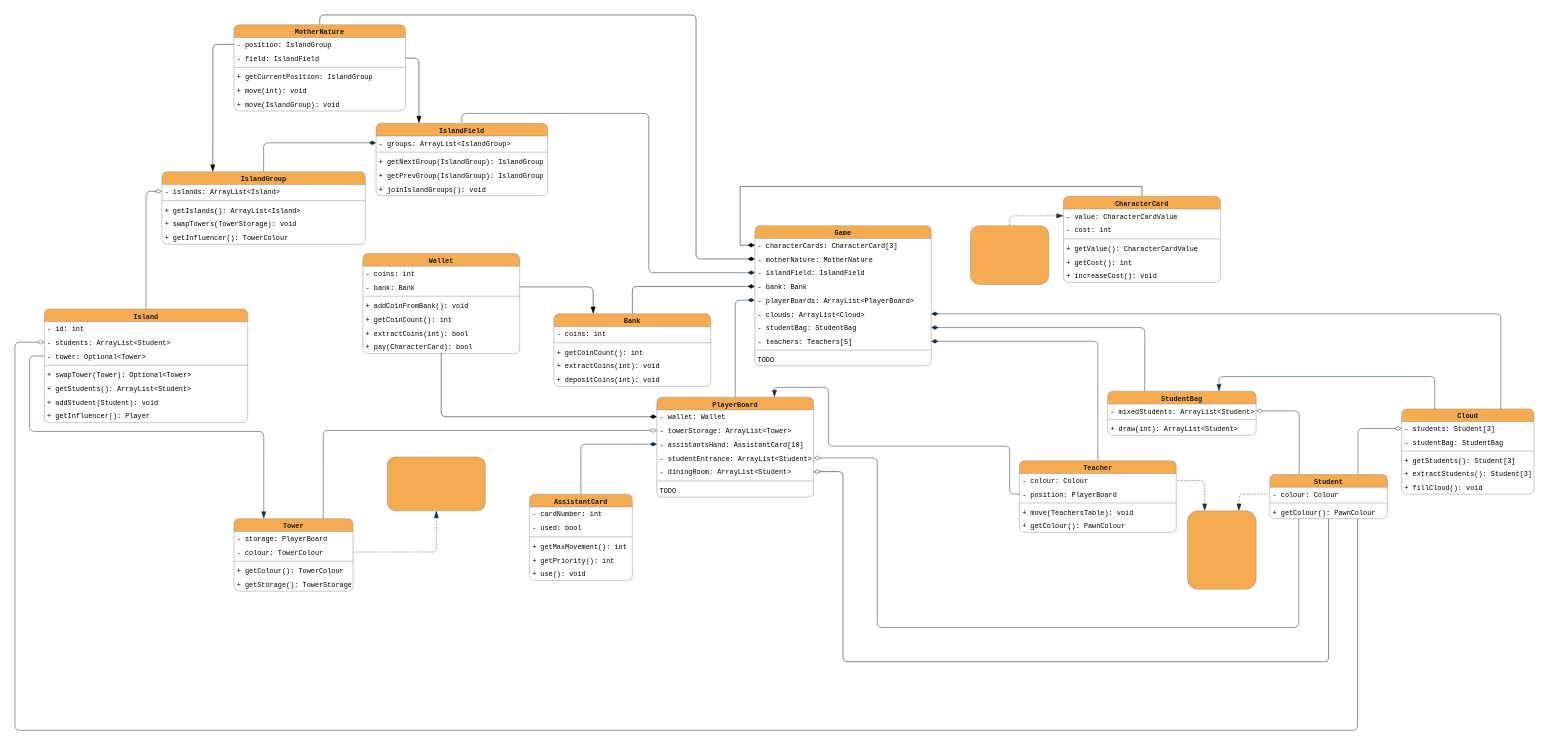
This 1543x746 diagram has some shape labels left out. Each missing label, with the centre of its shape:
"<<Enumeration>> CharacterCardValue C01 ... C12" goes at (1009,254).
"<<Enumeration>> PawnColour BLUE GREEN PINK RED YELLOW" goes at (1221,549).
"<<Enumeration>> TowerColour Black White Gray" goes at (436,483).
